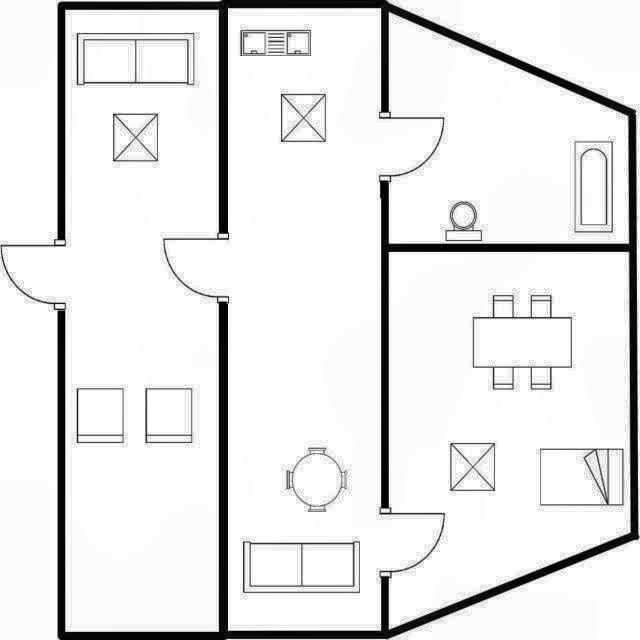room: (228, 10, 382, 631), (66, 10, 219, 631), (388, 251, 630, 630), (389, 11, 629, 244)
